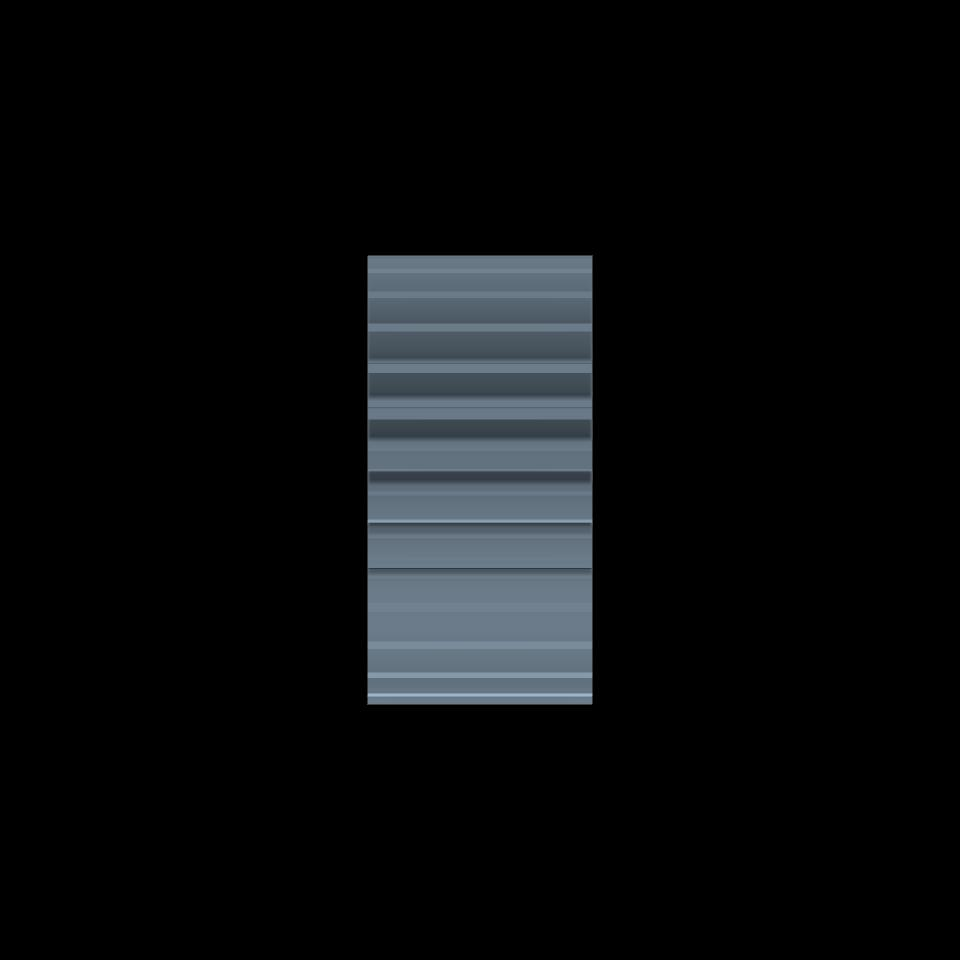Straight: (368, 256, 592, 704)
